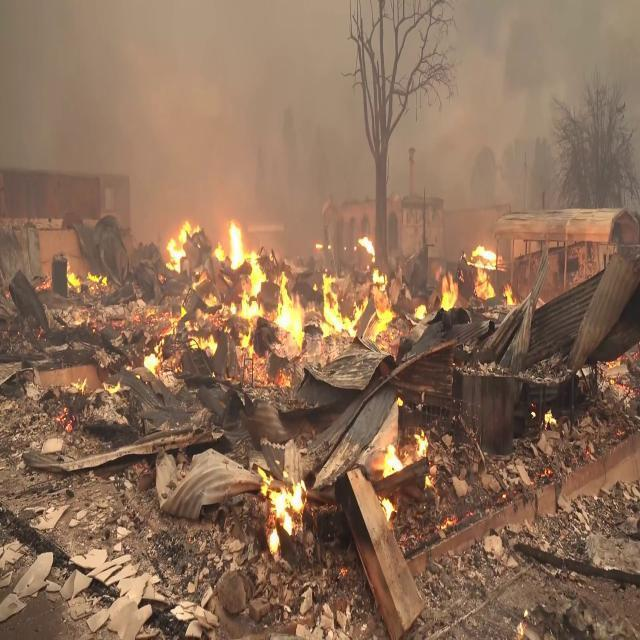Fire: (315, 258, 396, 345), (233, 268, 321, 336), (166, 202, 252, 270), (464, 239, 506, 312)
Smoke: (153, 0, 267, 178), (480, 0, 572, 122)
